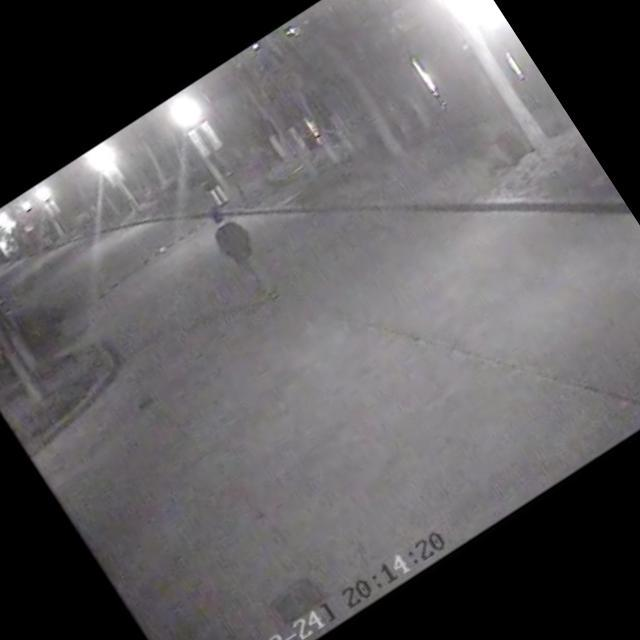person: (191, 193, 289, 314)
